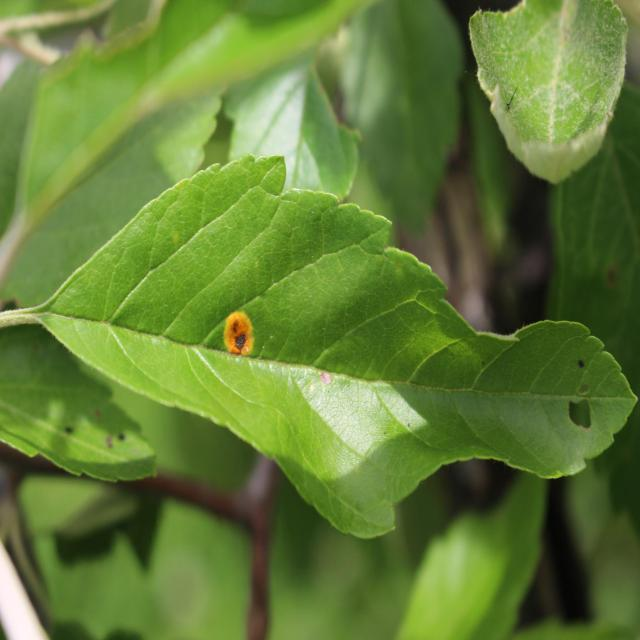Rust: (218, 280, 259, 383)
